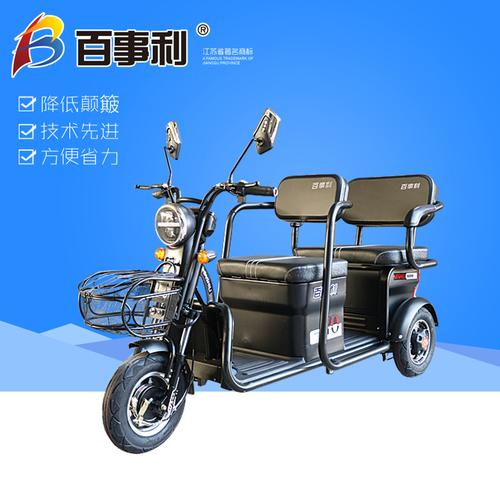empty: (63, 66, 475, 442)
